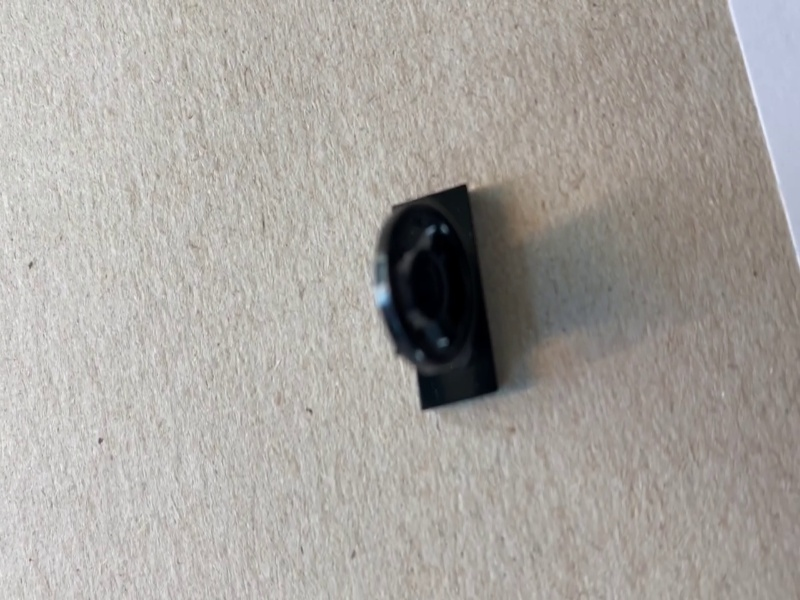steering wheel: (374, 184, 502, 412)
